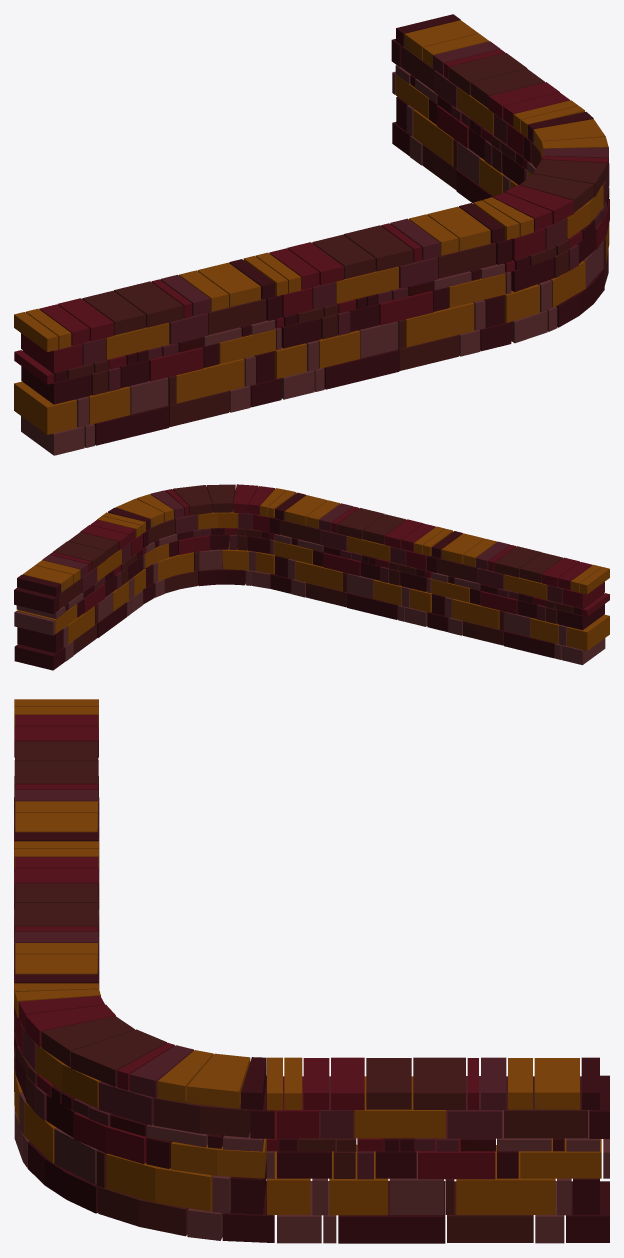
Rendered from WallRed5.fbx.
3 views of the same model, one above another, from view 1: azimuth 30°, elevation 25°; view 2: azimuth 150°, elevation 25°; view 3: azimuth 270°, elevation 25° (orthographic). The views are drawn at different scales.
Parts seen in each view (by area): view 1: WallRed5; view 2: WallRed5; view 3: WallRed5.
Part boxes in pixels (x1=…): WallRed5: x1=14, y1=14, x2=609, y2=455; WallRed5: x1=14, y1=484, x2=609, y2=670; WallRed5: x1=14, y1=699, x2=609, y2=1243.
Bounding box in the file's own units: 55.73 × 9.9 × 35.62.
1 material, 1 textured.
